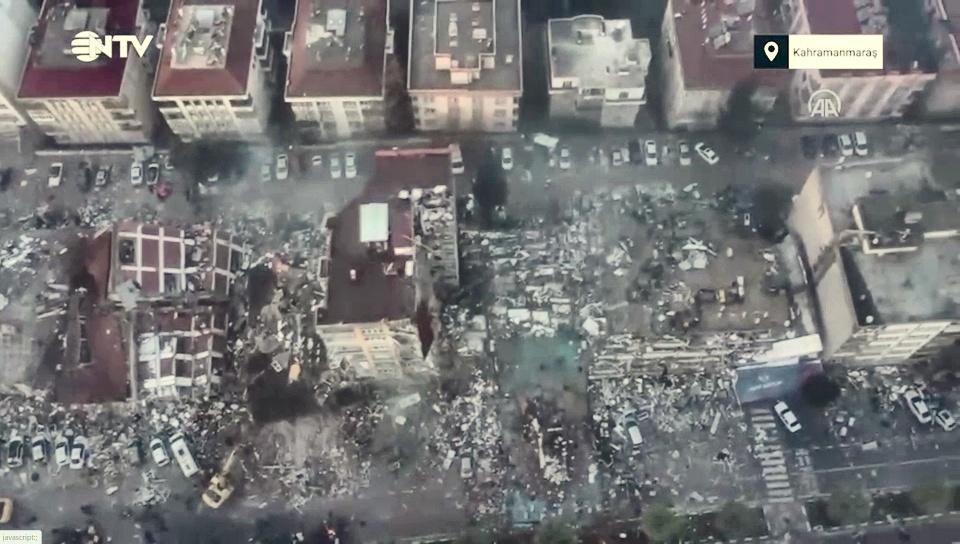kapali: (417, 373, 742, 534)
